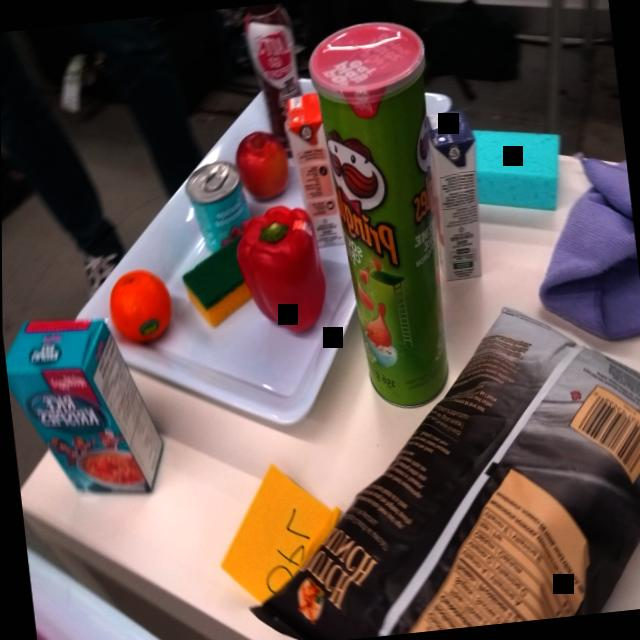apple: (234, 123, 289, 203)
cereal: (2, 293, 171, 516)
chocolate_drink: (240, 1, 309, 150)
grape_juice: (421, 106, 492, 288)
orange: (104, 266, 176, 348)
orange_juice: (281, 94, 345, 250)
paprika: (230, 201, 334, 340)
potato_chips: (236, 303, 640, 640)
pringles: (306, 10, 466, 413)
sausages: (179, 156, 251, 252)
scrubby: (175, 238, 251, 334)
sponge_opl: (468, 120, 570, 215)
